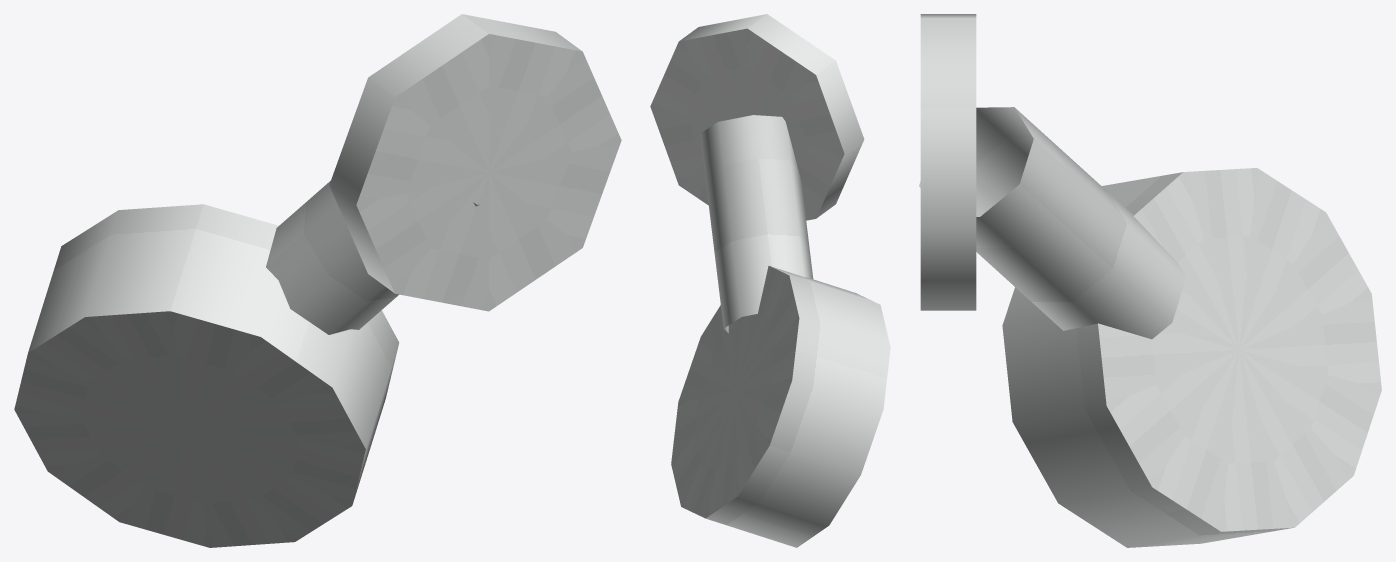
The model's file is nycsignalarm_stub_72.obj.
3 renders of one model, left to right at view 1: azimuth 30°, elevation 25°; view 2: azimuth 150°, elevation 25°; view 3: azimuth 270°, elevation 25°, orthographic. The views are drawn at different scales.
Parts seen in each view (by area): view 1: nycsignalarm_stub_72; view 2: nycsignalarm_stub_72; view 3: nycsignalarm_stub_72.
Part boxes in pixels (left/top/right/bottom): nycsignalarm_stub_72: left=14, top=14, right=621, bottom=547; nycsignalarm_stub_72: left=650, top=14, right=890, bottom=547; nycsignalarm_stub_72: left=919, top=14, right=1381, bottom=547.
Bounding box in the file's own units: 0.5837 × 0.7295 × 0.5131.
